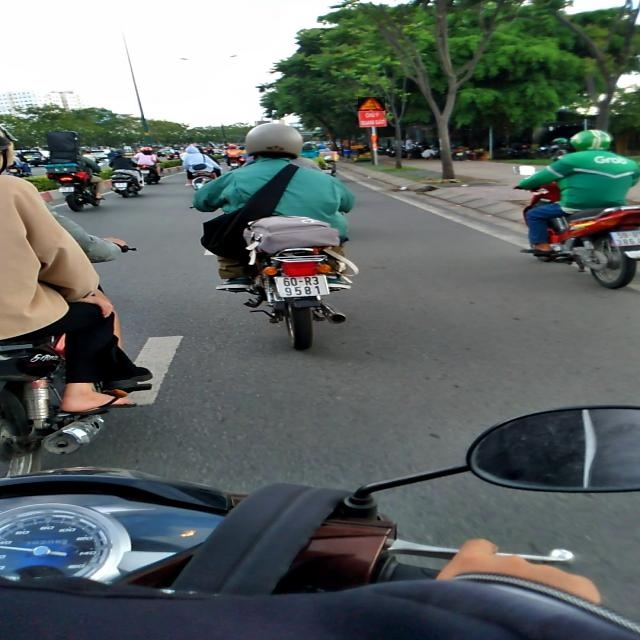bien_nguy_hiem: (358, 97, 385, 111)
